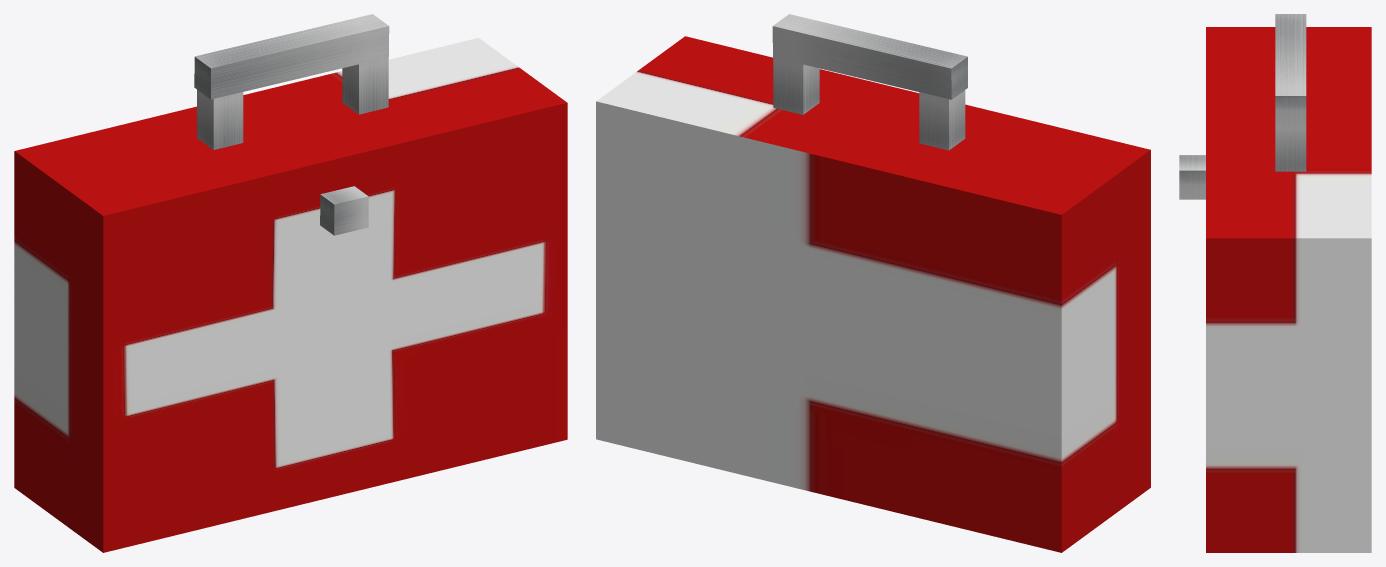
Rendered from Botiquin.fbx.
3 views of the same model, side by side, from view 1: azimuth 30°, elevation 25°; view 2: azimuth 150°, elevation 25°; view 3: azimuth 270°, elevation 25° (orthographic). The views are drawn at different scales.
Visible parts, largest first — view 1: Cube, Cube.003, Cube.001, Cube.002, Cube.004; view 2: Cube, Cube.003, Cube.001, Cube.002; view 3: Cube, Cube.003, Cube.002, Cube.004.
Boxes of the visible parts, left/top/right/bottom form: Cube: left=14, top=38, right=567, bottom=552; Cube.003: left=194, top=14, right=389, bottom=99; Cube.001: left=197, top=90, right=243, bottom=149; Cube.002: left=342, top=56, right=388, bottom=114; Cube.004: left=320, top=186, right=368, bottom=235; Cube: left=596, top=36, right=1150, bottom=552; Cube.003: left=772, top=14, right=967, bottom=99; Cube.001: left=919, top=90, right=965, bottom=150; Cube.002: left=773, top=56, right=819, bottom=114; Cube: left=1206, top=27, right=1371, bottom=552; Cube.003: left=1275, top=14, right=1306, bottom=124; Cube.002: left=1275, top=125, right=1306, bottom=171; Cube.004: left=1179, top=155, right=1205, bottom=199.
Bounding box in the file's own units: 391 × 340 × 150.
5 materials, 5 textured.
